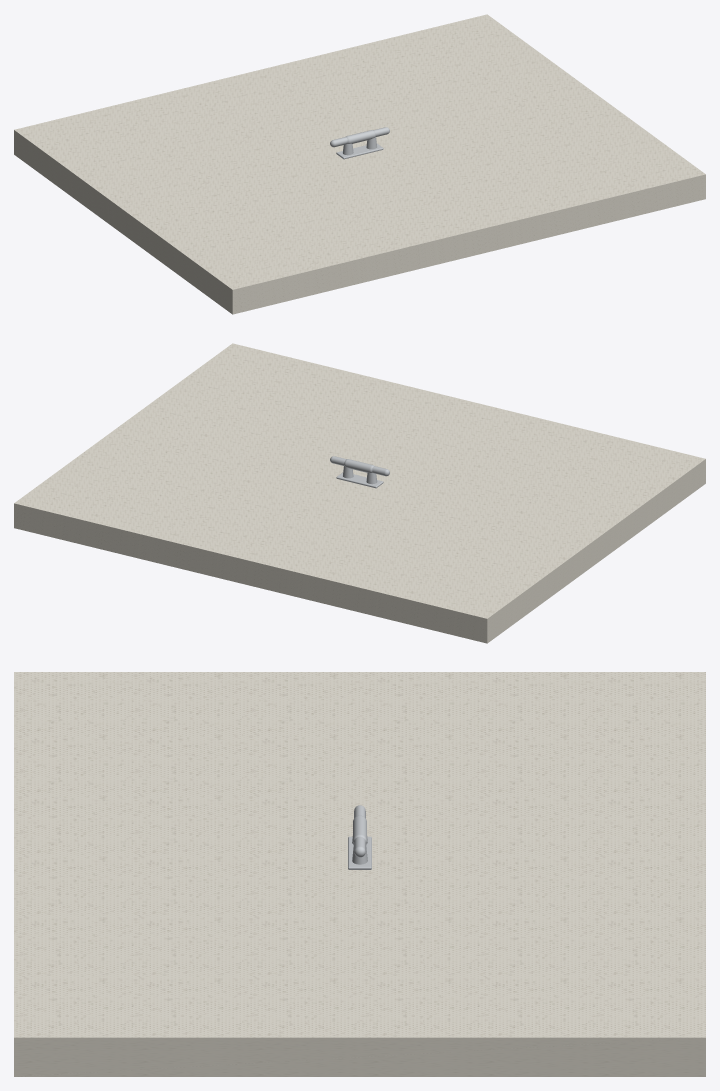
Rendered from knot-cleat.glb.
The picture shows the model from 3 angles, top to bottom: view 1: azimuth 30°, elevation 25°; view 2: azimuth 150°, elevation 25°; view 3: azimuth 270°, elevation 25°; orthographic projection. The views are drawn at different scales.
Bounding box in the file's own units: 2 × 0.1755 × 1.6.
2 materials, 1 textured.
